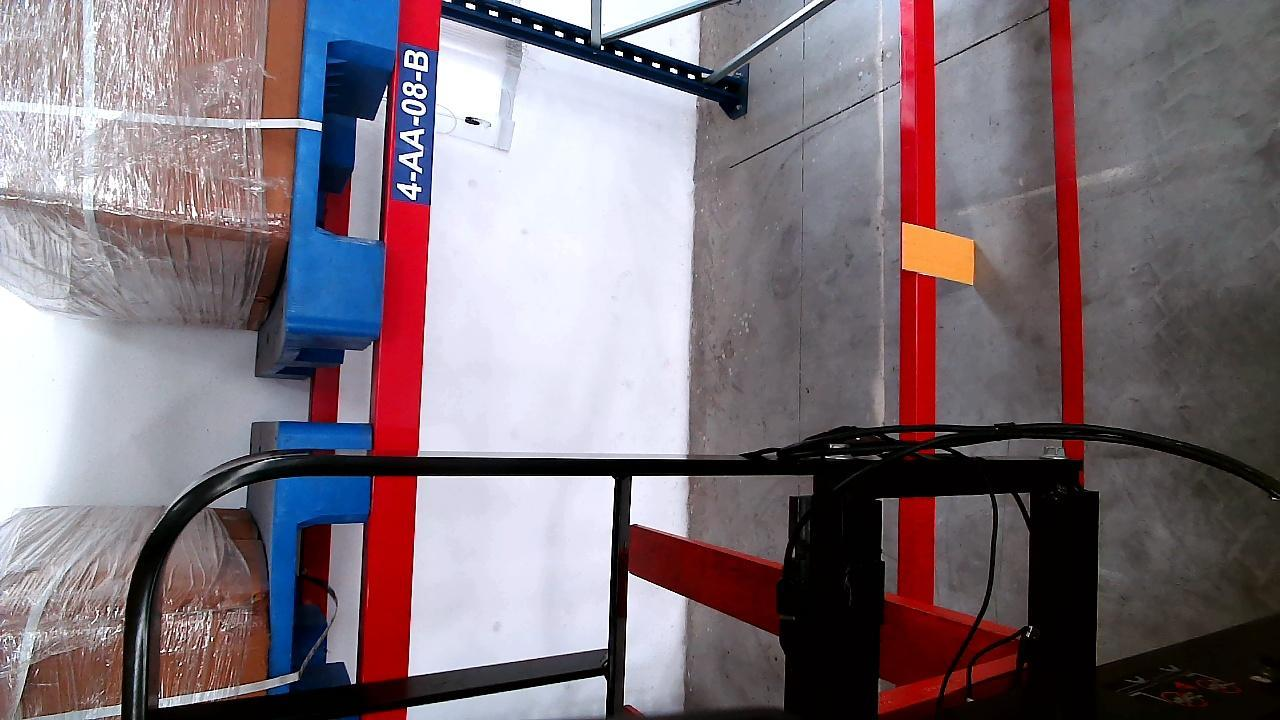red_line: (1053, 0, 1082, 459)
